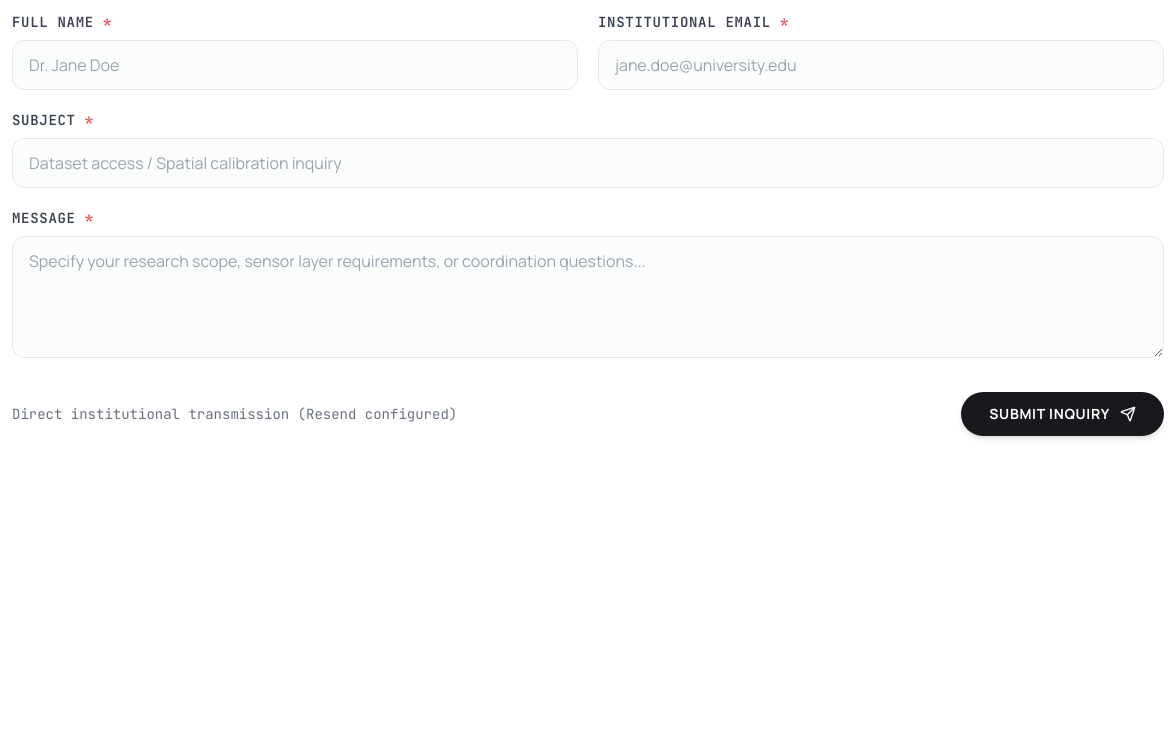
Scenario: AFTER THE FIRE — Public & Research Dashboard Pages › Contact & Feedback Forms Validation › validates contact form fields and shows validation errors on invalid submit
The width and height of the screenshot is (1176, 732).
Click the button "Submit Inquiry" at [1063, 414], box [961, 392, 1164, 436]
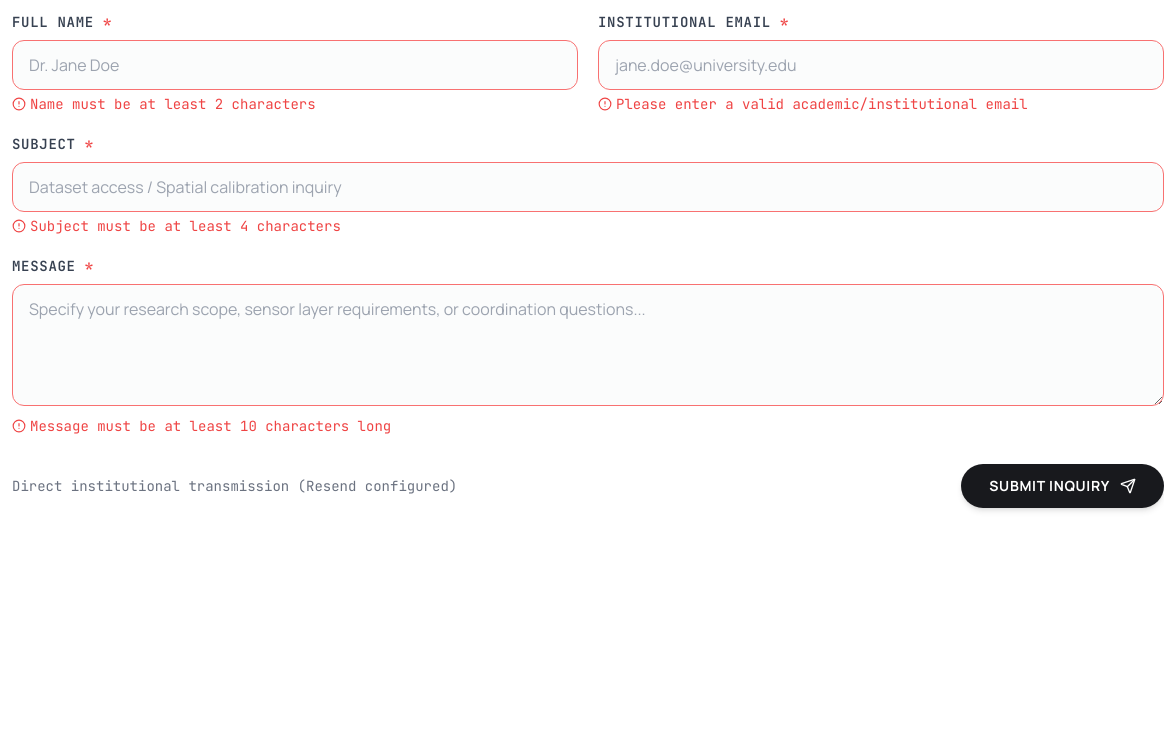
Expected: the text "Name must be at least 2 characters" is shown, [12, 95, 316, 113]
Expected: the text "Please enter a valid academic/institutional email" is shown, [598, 95, 1028, 113]
